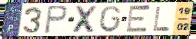3: (22, 6, 44, 34)
E: (125, 4, 152, 35)
G: (98, 5, 122, 34)
L: (152, 6, 171, 33)
P: (43, 5, 69, 35)
X: (71, 5, 100, 34)
